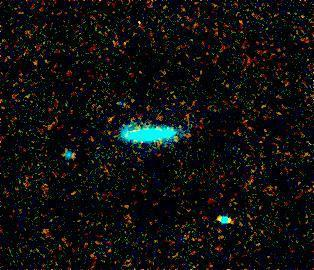star: (93, 107, 123, 137)
